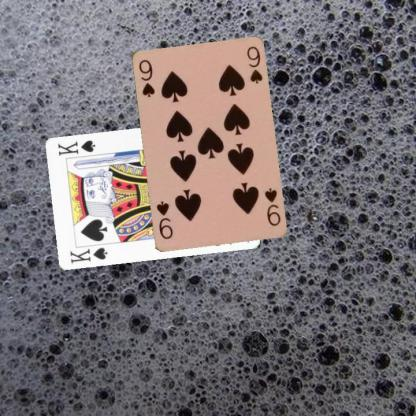9s: (262, 185, 282, 228), (136, 57, 156, 98)
Ks: (68, 244, 108, 264)
